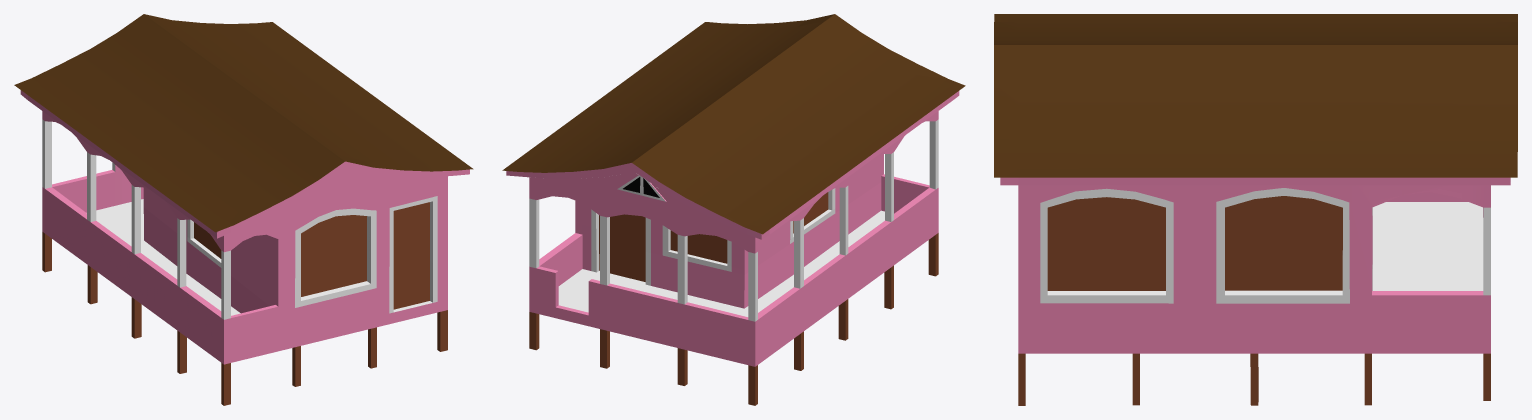
Rendered from Palafita1.fbx.
The picture shows the model from 3 angles, left to right: view 1: azimuth 30°, elevation 25°; view 2: azimuth 150°, elevation 25°; view 3: azimuth 270°, elevation 25°; orthographic projection. The views are drawn at different scales.
Parts seen in each view (by area): view 1: Cubo; view 2: Cubo; view 3: Cubo.
Boxes of the visible parts, x1,y1,x2,y2 form: Cubo: [14, 14, 473, 405]; Cubo: [502, 14, 965, 405]; Cubo: [994, 14, 1517, 405].
Size of the model in its own units: 400 by 332 by 540.
